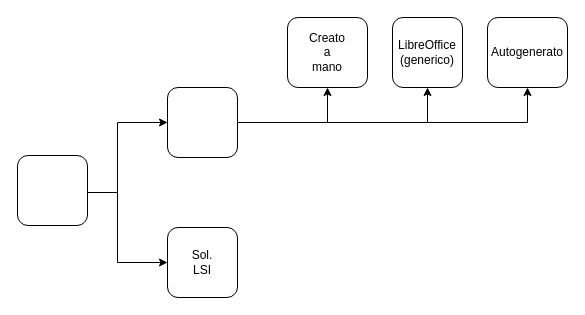
Some shapes in this 585 by 315 pixel diagram are drawn without their labels. The shapes that lost their labels are listed below. From the top down, each one's centre as x and y in pixels, then its label:
At (202,122): "Tesauro".
At (52,190): "Soluzione di base".
